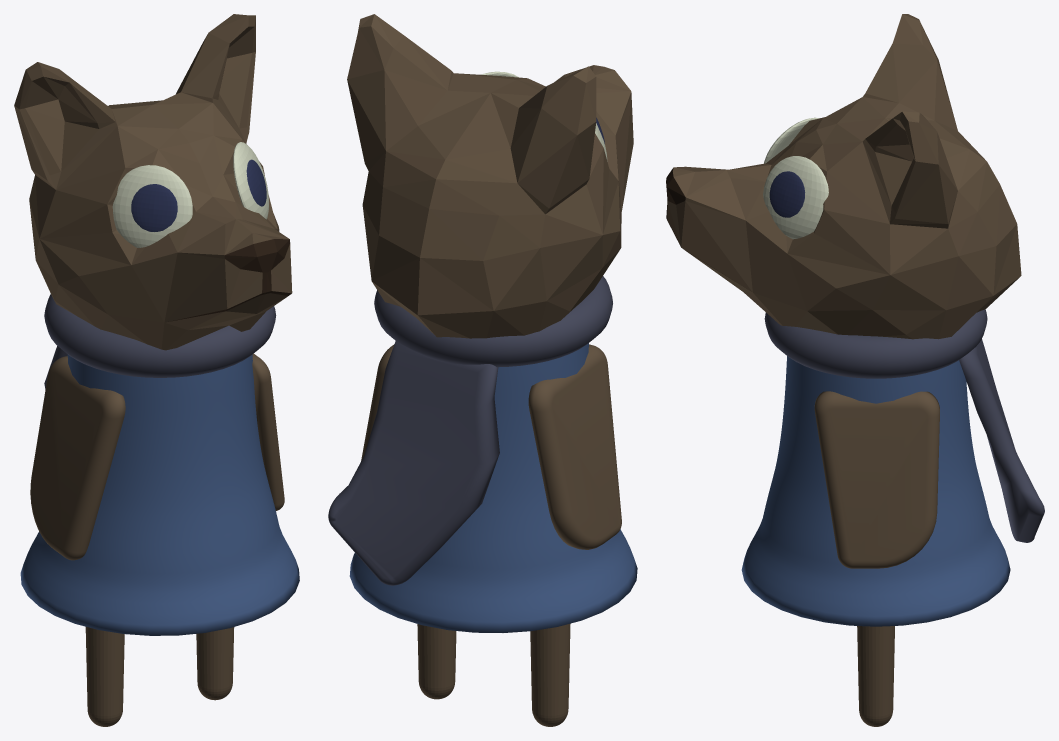
File: dog remaster.fbx
The picture shows the model from 3 angles, left to right: view 1: azimuth 30°, elevation 25°; view 2: azimuth 150°, elevation 25°; view 3: azimuth 270°, elevation 25°; orthographic projection. The views are drawn at different scales.
Visible parts, largest first — view 1: Low_Poly_Dog_Sitting, Cylinder.156, Cube.030, Torus.010, Cylinder.157, Sphere.016, Sphere.017; view 2: Low_Poly_Dog_Sitting, Cylinder.156, Cube.031, Cube.030, Torus.010, Cylinder.157; view 3: Low_Poly_Dog_Sitting, Cylinder.156, Cube.030, Torus.010, Cube.031, Cylinder.157, Sphere.016, Sphere.017.
Part boxes in pixels (bbox=[...]): Low_Poly_Dog_Sitting: bbox=[14, 14, 292, 350]; Cylinder.156: bbox=[20, 354, 299, 635]; Cube.030: bbox=[30, 353, 284, 560]; Torus.010: bbox=[44, 294, 276, 377]; Cylinder.157: bbox=[85, 627, 234, 726]; Sphere.016: bbox=[112, 142, 268, 247]; Sphere.017: bbox=[131, 159, 266, 231]; Low_Poly_Dog_Sitting: bbox=[347, 14, 633, 338]; Cylinder.156: bbox=[349, 343, 637, 632]; Cube.031: bbox=[328, 341, 499, 585]; Cube.030: bbox=[361, 344, 621, 549]; Torus.010: bbox=[374, 276, 612, 367]; Cylinder.157: bbox=[417, 623, 570, 726]; Low_Poly_Dog_Sitting: bbox=[666, 14, 1021, 339]; Cylinder.156: bbox=[741, 356, 1010, 626]; Cube.030: bbox=[814, 391, 939, 568]; Torus.010: bbox=[764, 309, 987, 378]; Cube.031: bbox=[959, 339, 1044, 542]; Cylinder.157: bbox=[857, 626, 894, 726]; Sphere.016: bbox=[763, 117, 828, 239]; Sphere.017: bbox=[769, 171, 805, 217].
Size of the model in its own units: 76.64 by 200 by 108.
